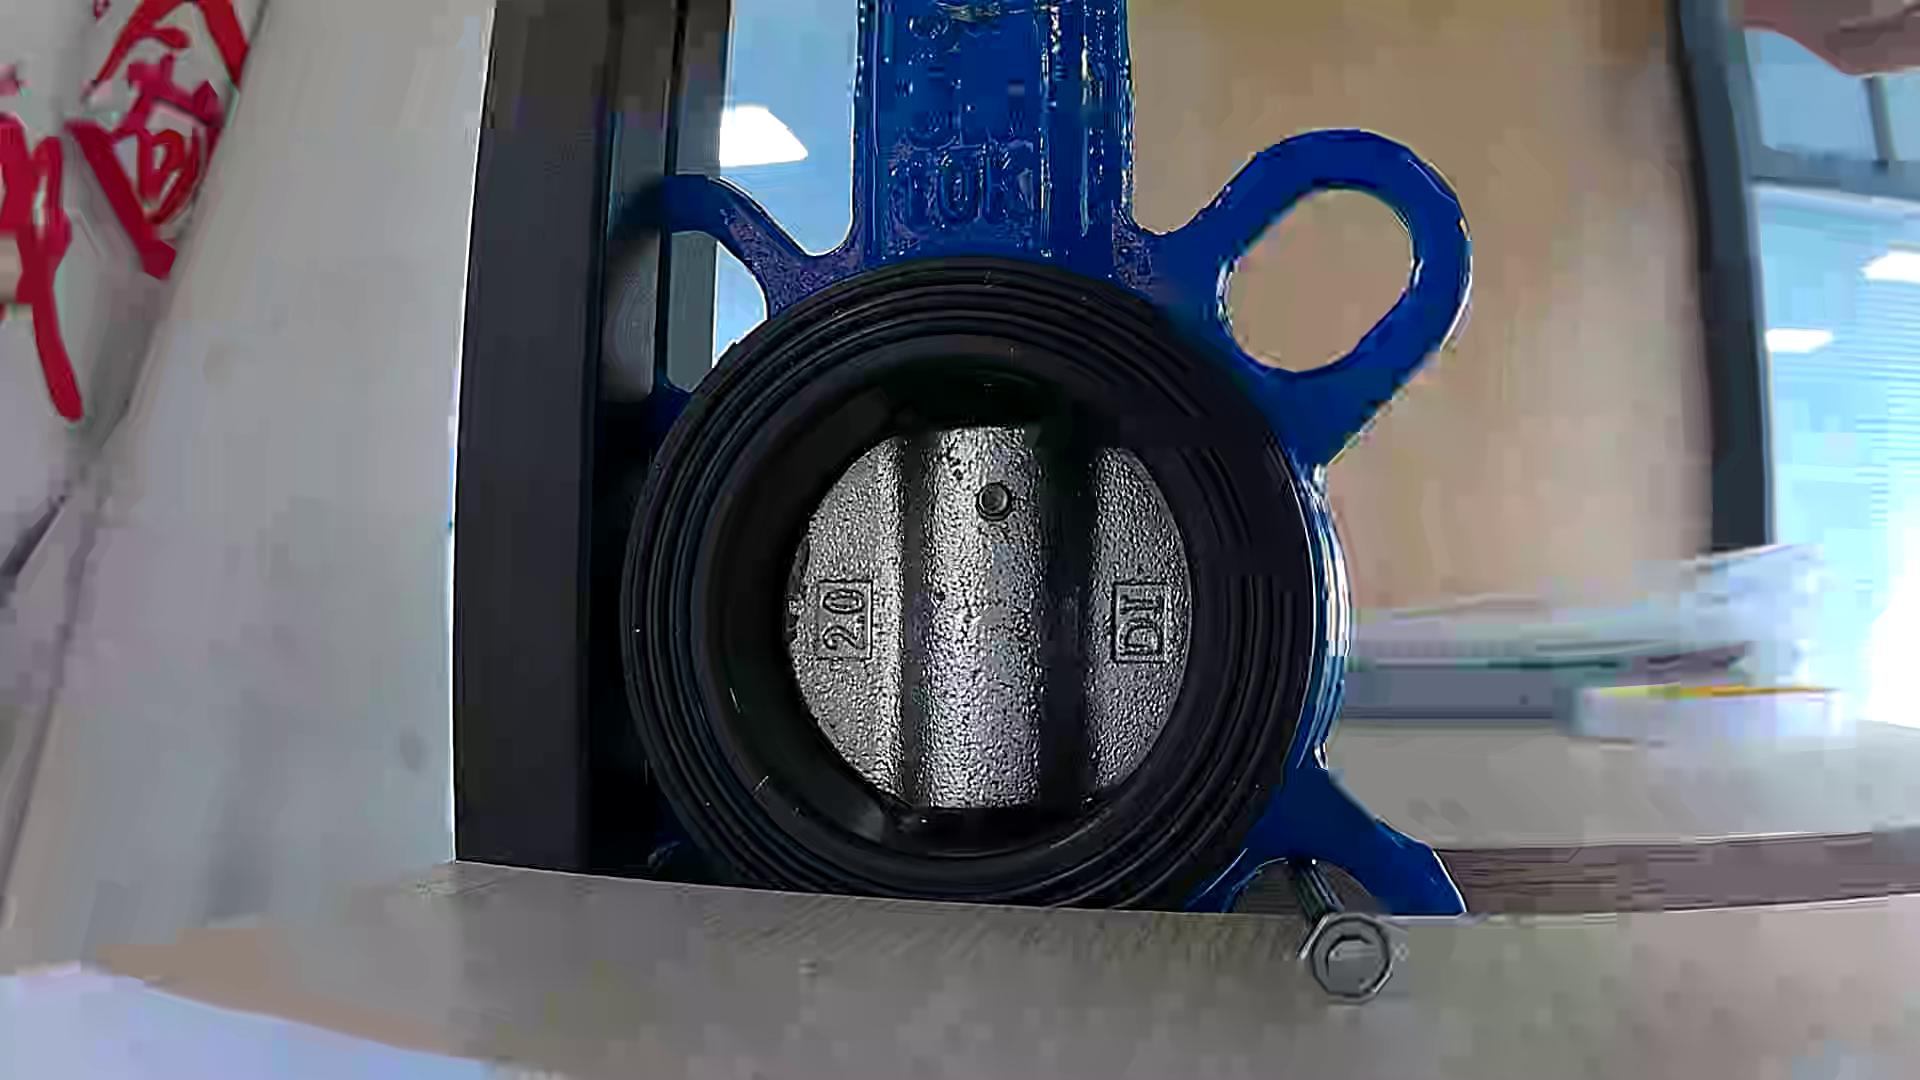valve: (787, 427, 1192, 810)
